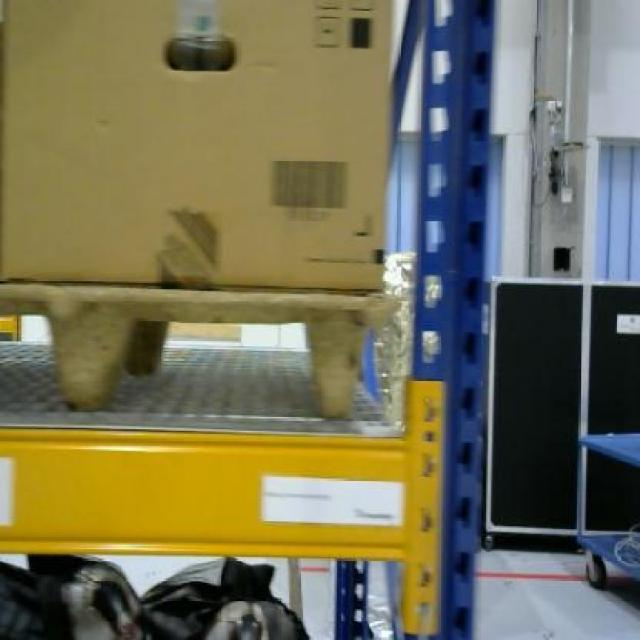box: (0, 0, 386, 294)
